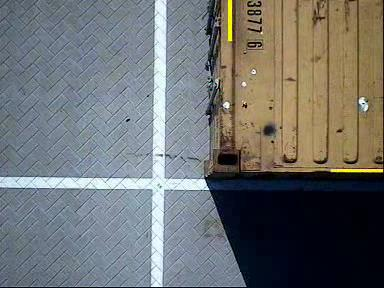groundmarker_2: (115, 28, 228, 106)
